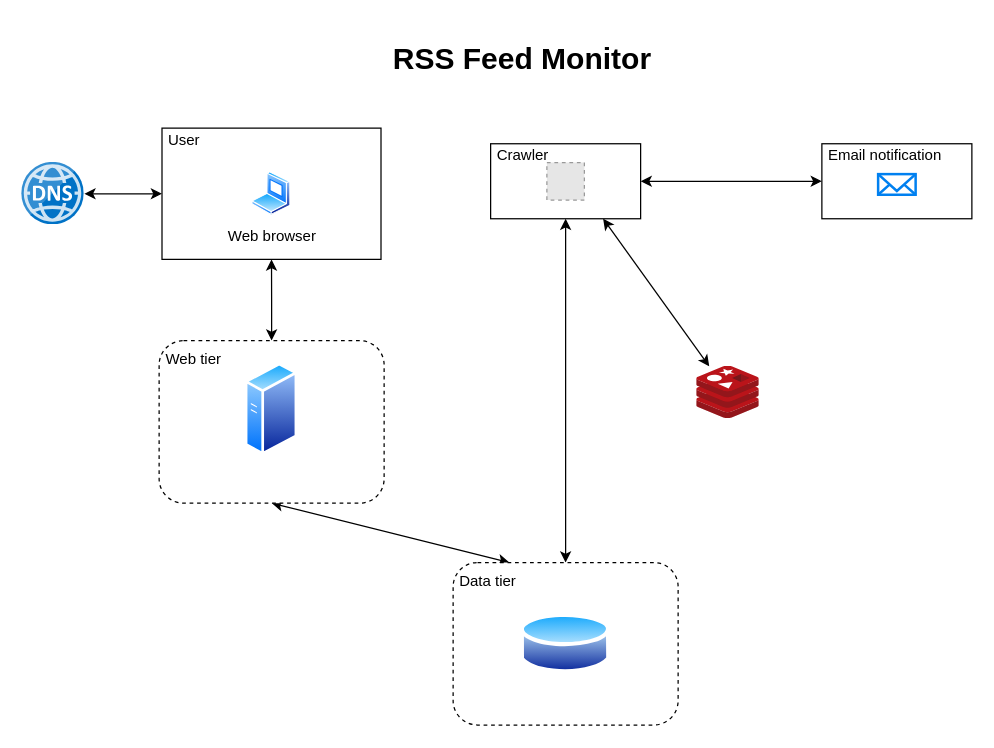
Some shapes in this 994 by 748 pixel diagram are drawn without their labels. Grey dashed boxes stand in for pictures. The shapes that lost their labels are listed below. From the top down, each one's centre as x and y in pixels, then its label:
At point 271,409: "Server".
At point 727,392: "Redis".
At point 565,643: "PostgreSQL".
